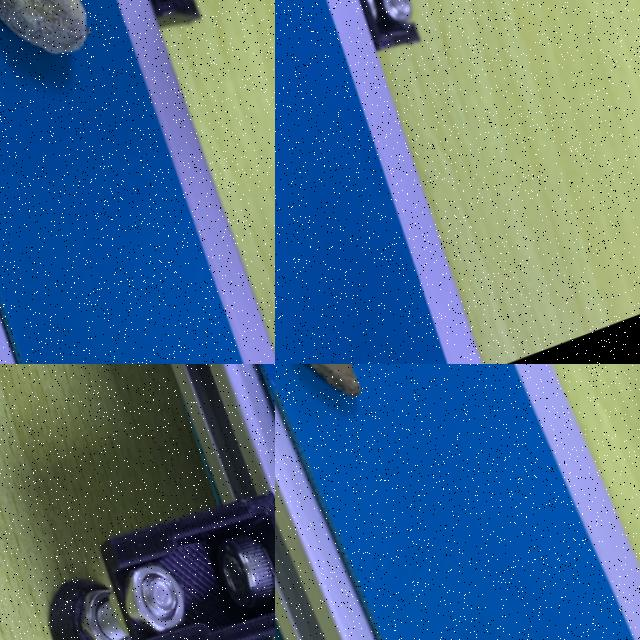Agglomerated_cocoabeans: (0, 0, 152, 162)
Flat_cocoabeans: (275, 364, 407, 479)
